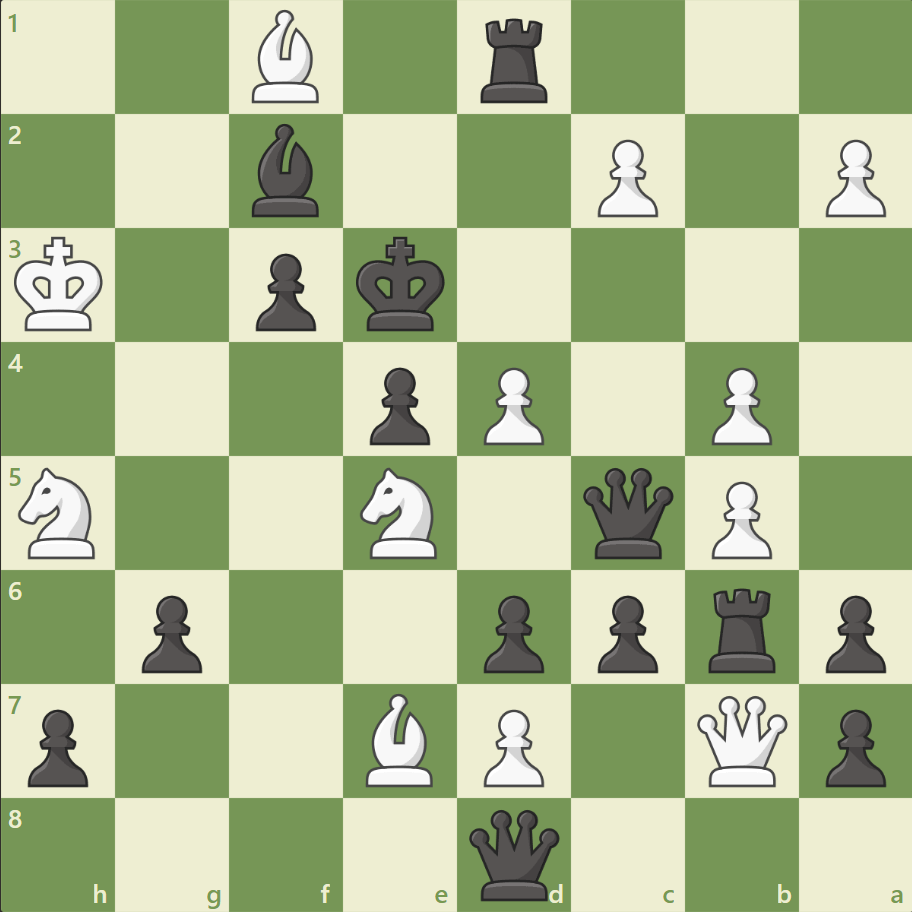B: (358, 687, 442, 790), (244, 6, 328, 109)
K: (11, 231, 111, 339)
N: (351, 461, 449, 564), (11, 461, 108, 564)
P: (474, 700, 549, 791), (701, 473, 776, 564), (701, 359, 776, 450), (474, 359, 549, 450), (815, 132, 889, 223), (588, 132, 662, 223)
Q: (691, 690, 790, 789)
b: (244, 120, 328, 222)
k: (351, 231, 451, 339)
p: (20, 700, 95, 791), (474, 586, 549, 677), (133, 586, 208, 677), (247, 246, 322, 337), (815, 700, 889, 791), (815, 586, 889, 677), (588, 586, 662, 677), (361, 359, 435, 450)
q: (464, 804, 563, 903), (578, 463, 677, 562)
r: (700, 579, 783, 676), (473, 12, 556, 109)
